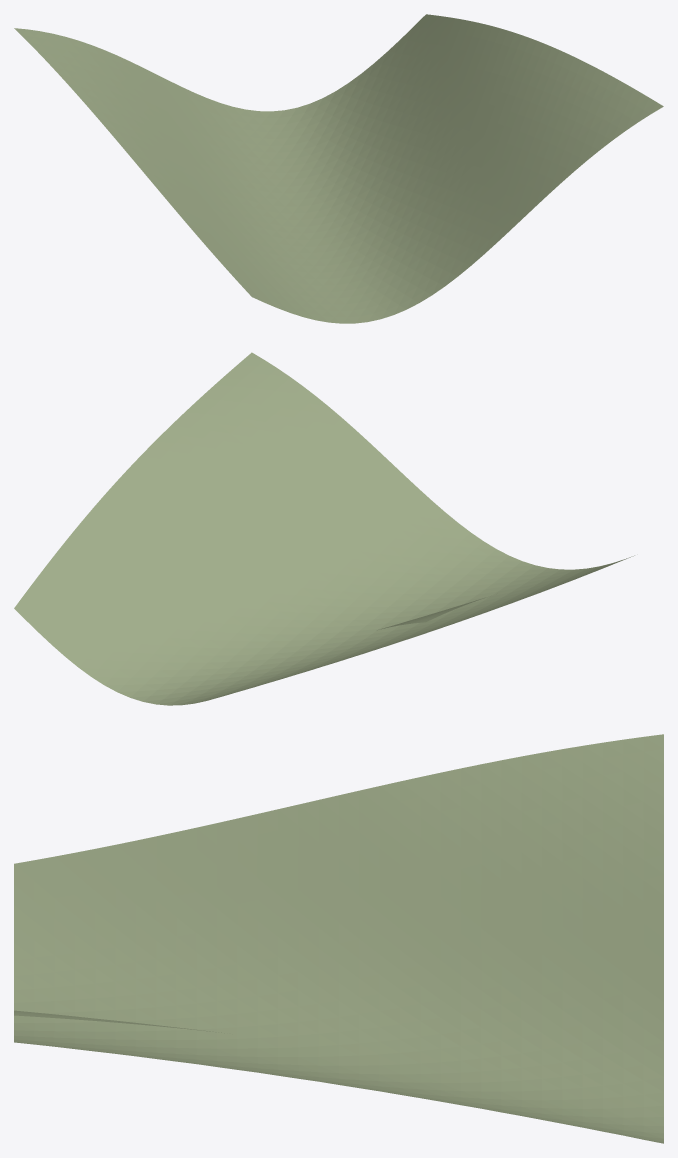
The model's file is expanse-11-17.glb.
The picture shows the model from 3 angles, top to bottom: view 1: azimuth 30°, elevation 25°; view 2: azimuth 150°, elevation 25°; view 3: azimuth 270°, elevation 25°; orthographic projection. The views are drawn at different scales.
Parts seen in each view (by area): view 1: expanse-11-17; view 2: expanse-11-17; view 3: expanse-11-17.
Part boxes in pixels (<box>): expanse-11-17: <box>14,14,663,323</box>; expanse-11-17: <box>14,352,634,705</box>; expanse-11-17: <box>14,734,663,1143</box>.
Bounding box in the file's own units: 256 × 88.27 × 256.
